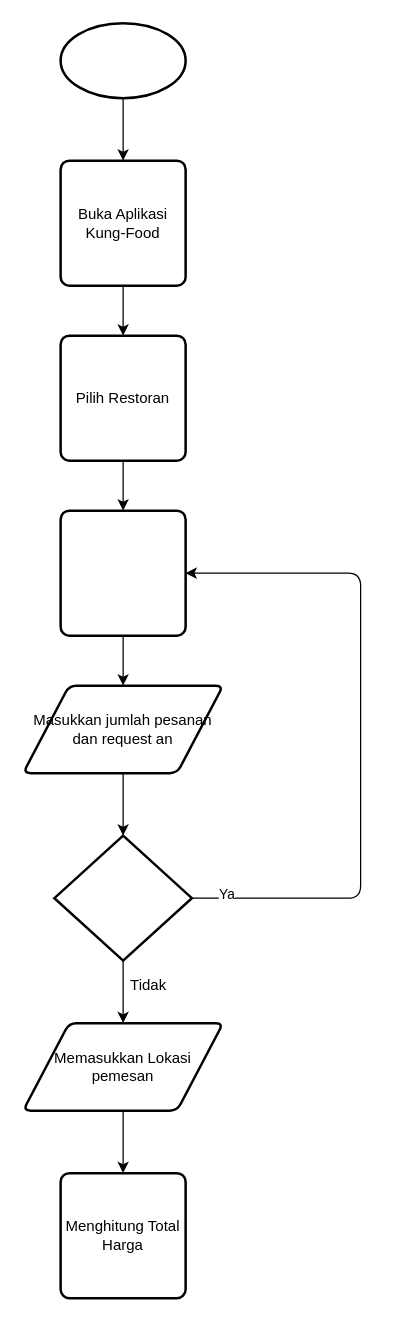
The diagram is 393 pixels wide and 1320 high, and some of its shapes have lost their labels. Each missing label, with the centre of its shape:
Apakah ingin menambah pesanan lain: the point at 122,897
Pilih Makanan dan Minuman: the point at 122,572
Start: the point at 122,60
